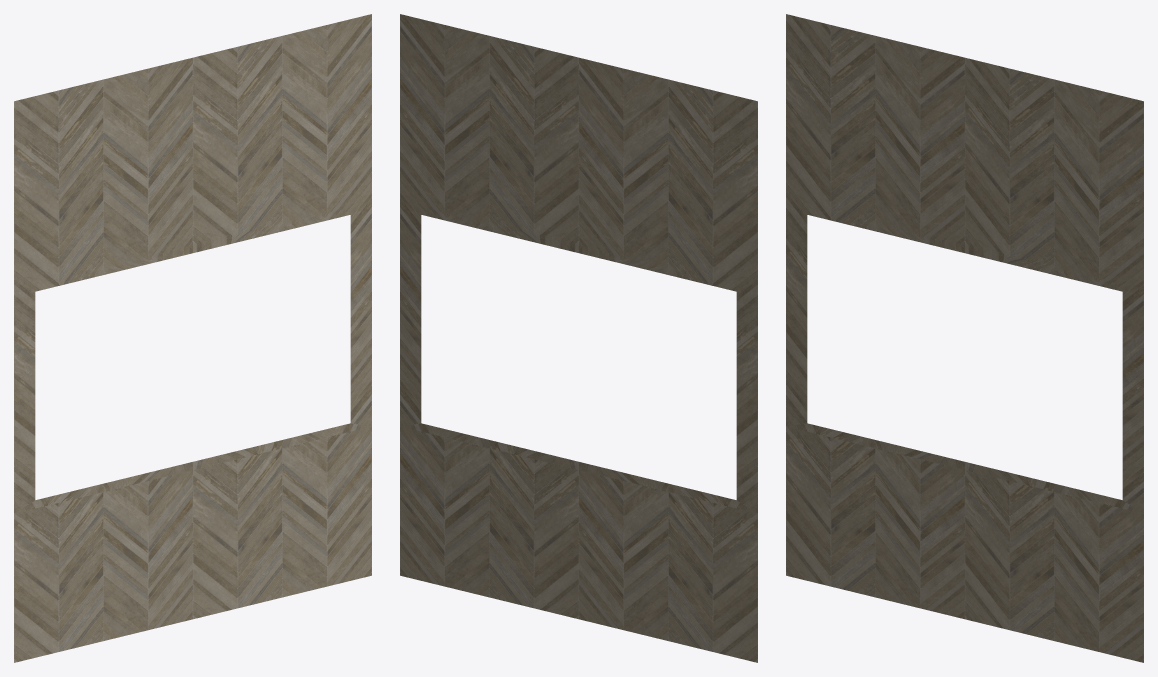
The model's file is Window_Room.fbx.
3 views of the same model, side by side, from view 1: azimuth 30°, elevation 25°; view 2: azimuth 150°, elevation 25°; view 3: azimuth 330°, elevation 25° (orthographic).
Visible parts, largest first — view 1: Window_Room; view 2: Window_Room; view 3: Window_Room.
Boxes of the visible parts, x1,y1,x2,y2 form: Window_Room: [14, 14, 371, 662]; Window_Room: [400, 14, 757, 662]; Window_Room: [786, 14, 1143, 662].
Size of the model in its own units: 2 by 3 by 9.54e-08.
